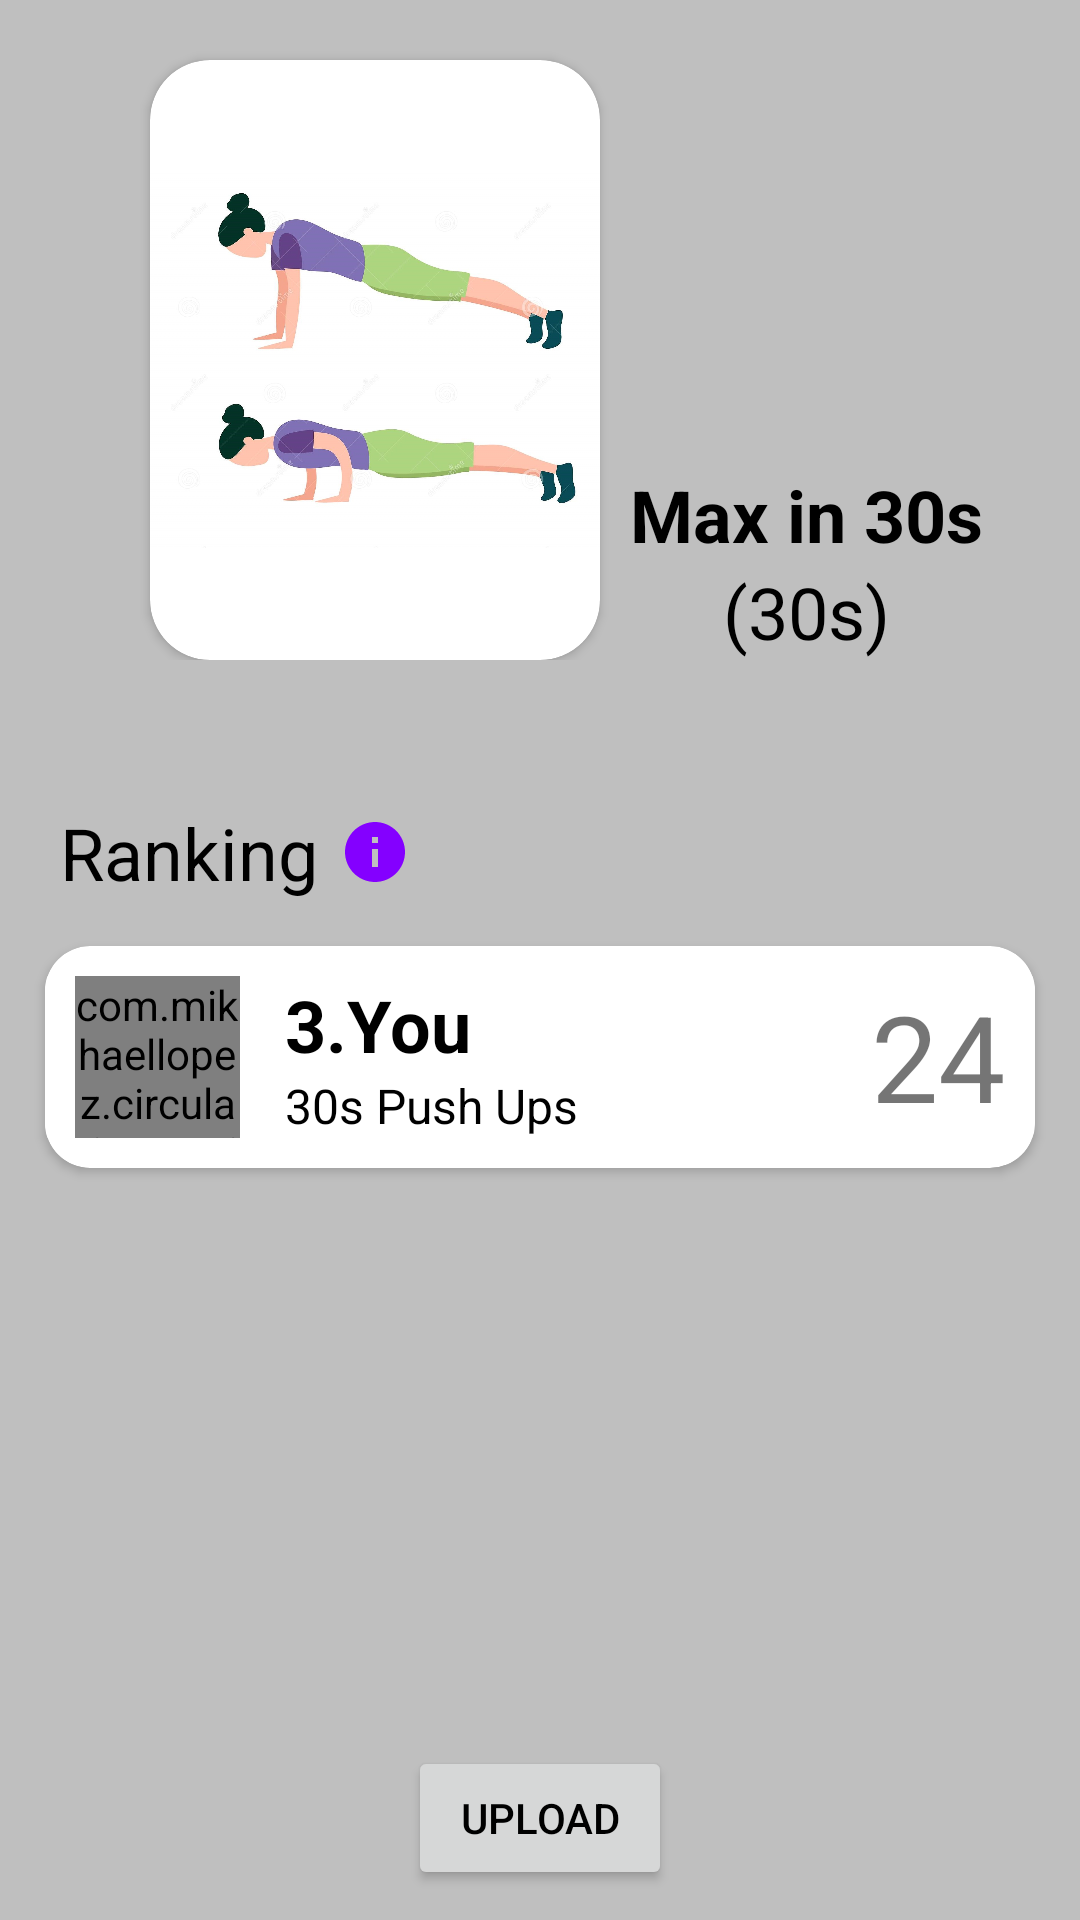

Icon click points for this 1080px×1920px phone screenshot, format (x,y):
info: (375,852)
